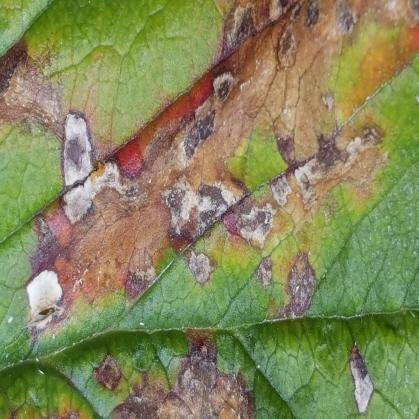Angular Leafspot: (0, 0, 418, 418)
